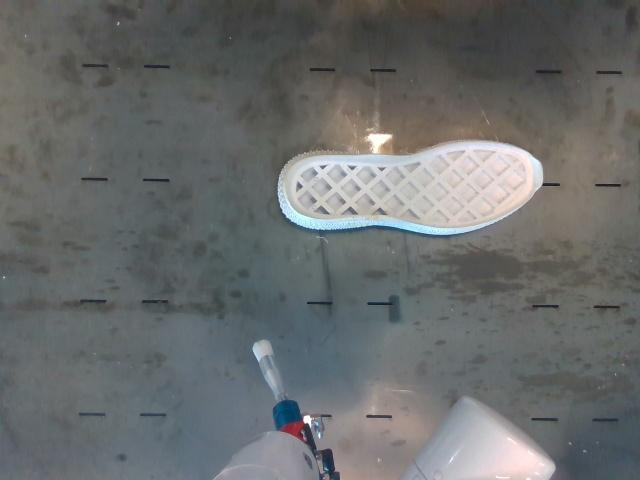shoes: (284, 143, 542, 229)
